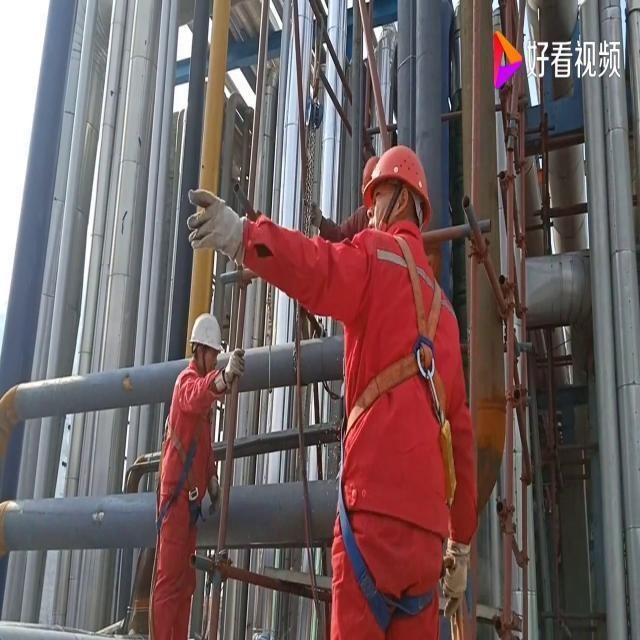Arnes_seguridad: (338, 224, 462, 482), (152, 362, 216, 547)
